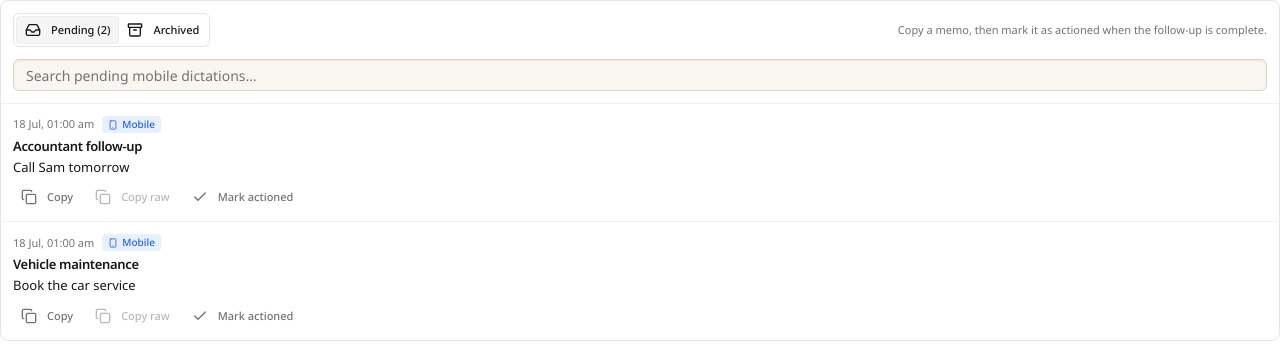
Test: TodoPanel › labels mobile dictations and searches by title
Expected: the heading "Accountant follow-up" is shown, [13,137,142,155]
Type "vehicle maintenance" into the field named "Search mobile To Do dictations".
click(640, 75); type("vehicle maintenance")  # box [13,59,1267,91]
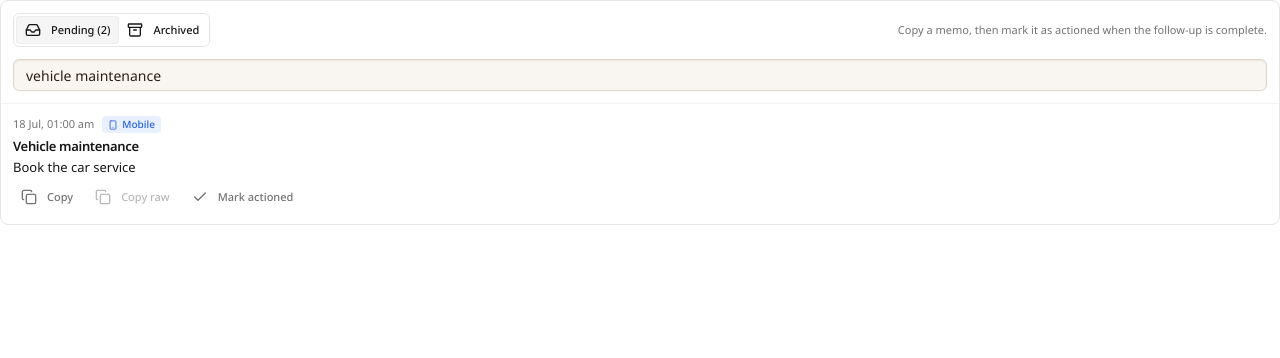
Expected: the text "Book the car service" is shown, [13,158,136,176]
Expected: the text "Call Sam tomorrow" is gone
